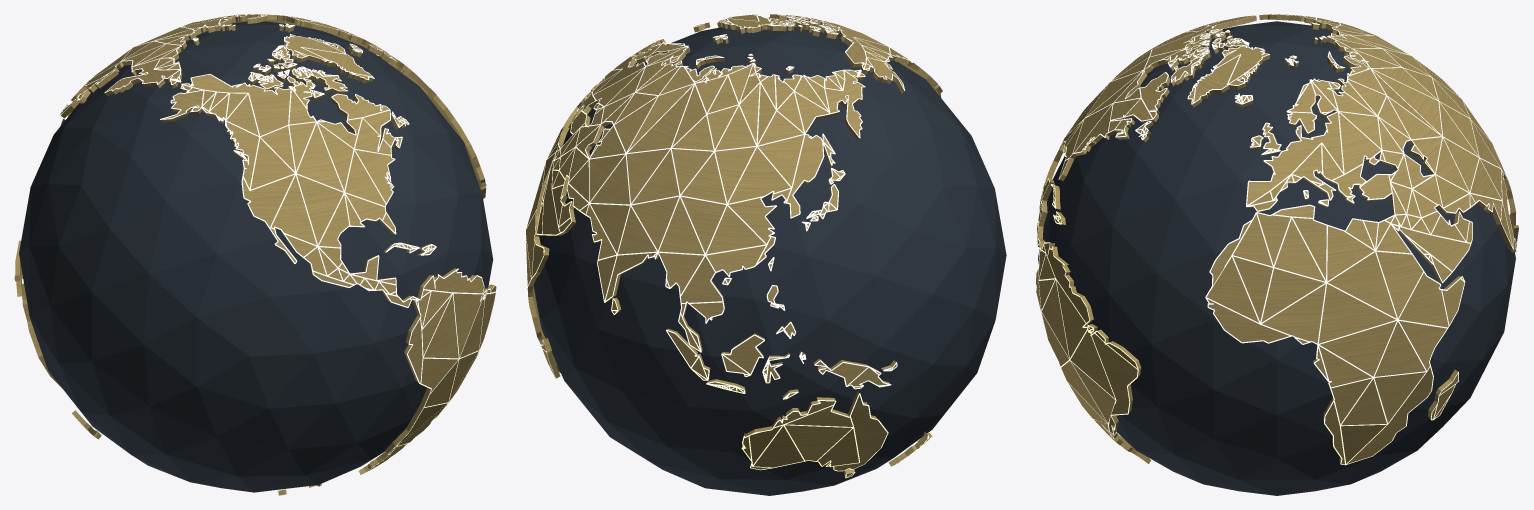
Rendered from atlas_globe_v17.glb.
The picture shows the model from 3 angles, left to right: view 1: azimuth 30°, elevation 25°; view 2: azimuth 150°, elevation 25°; view 3: azimuth 270°, elevation 25°; orthographic projection.
Parts seen in each view (by area): view 1: AtlasGlobeScene; view 2: AtlasGlobeScene; view 3: AtlasGlobeScene.
Boxes of the visible parts, bbox=[...] form: AtlasGlobeScene: bbox=[14, 14, 496, 495]; AtlasGlobeScene: bbox=[525, 14, 1006, 495]; AtlasGlobeScene: bbox=[1035, 14, 1518, 495].
Size of the model in its own units: 2.02 by 2.03 by 2.03.
Materials: 3 (1 with a texture image).
